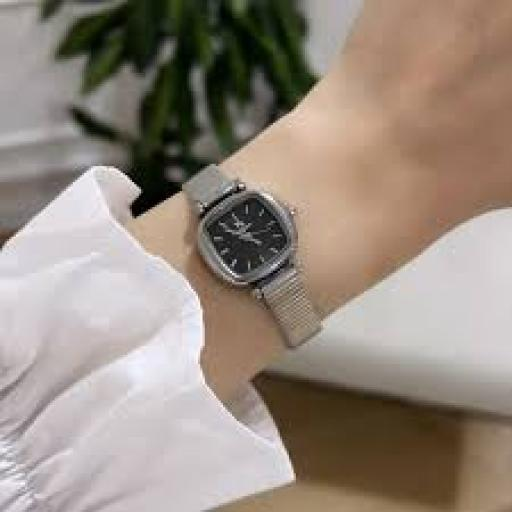KolSaati: (172, 121, 341, 358)
